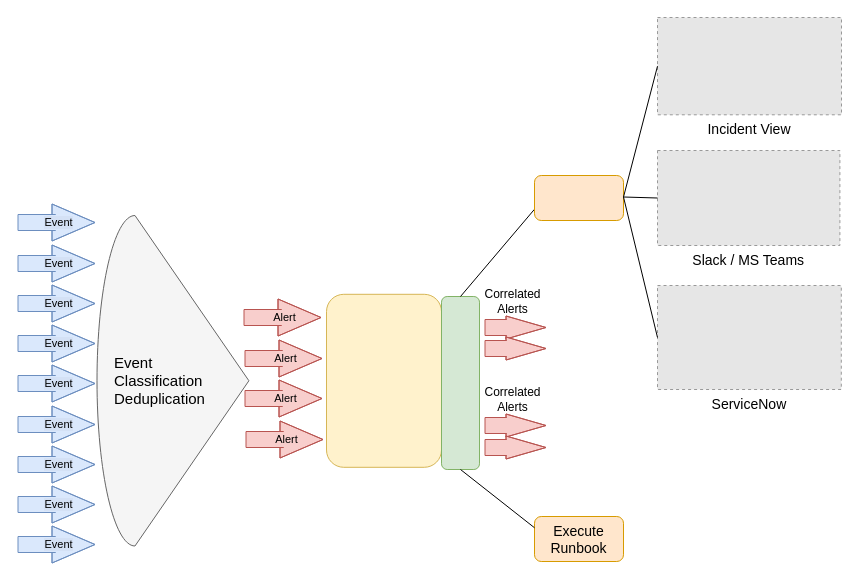
Some shapes in this 859 by 581 pixel diagram are drawn without their labels. Grey dashed boxes stand in for pictures. The centre of each missing label's shape, as x and y in pixels:
Alert Correlation Scope Temporal Topological: [384,380]
Create Incident: [579,197]
Policies: [460,383]
